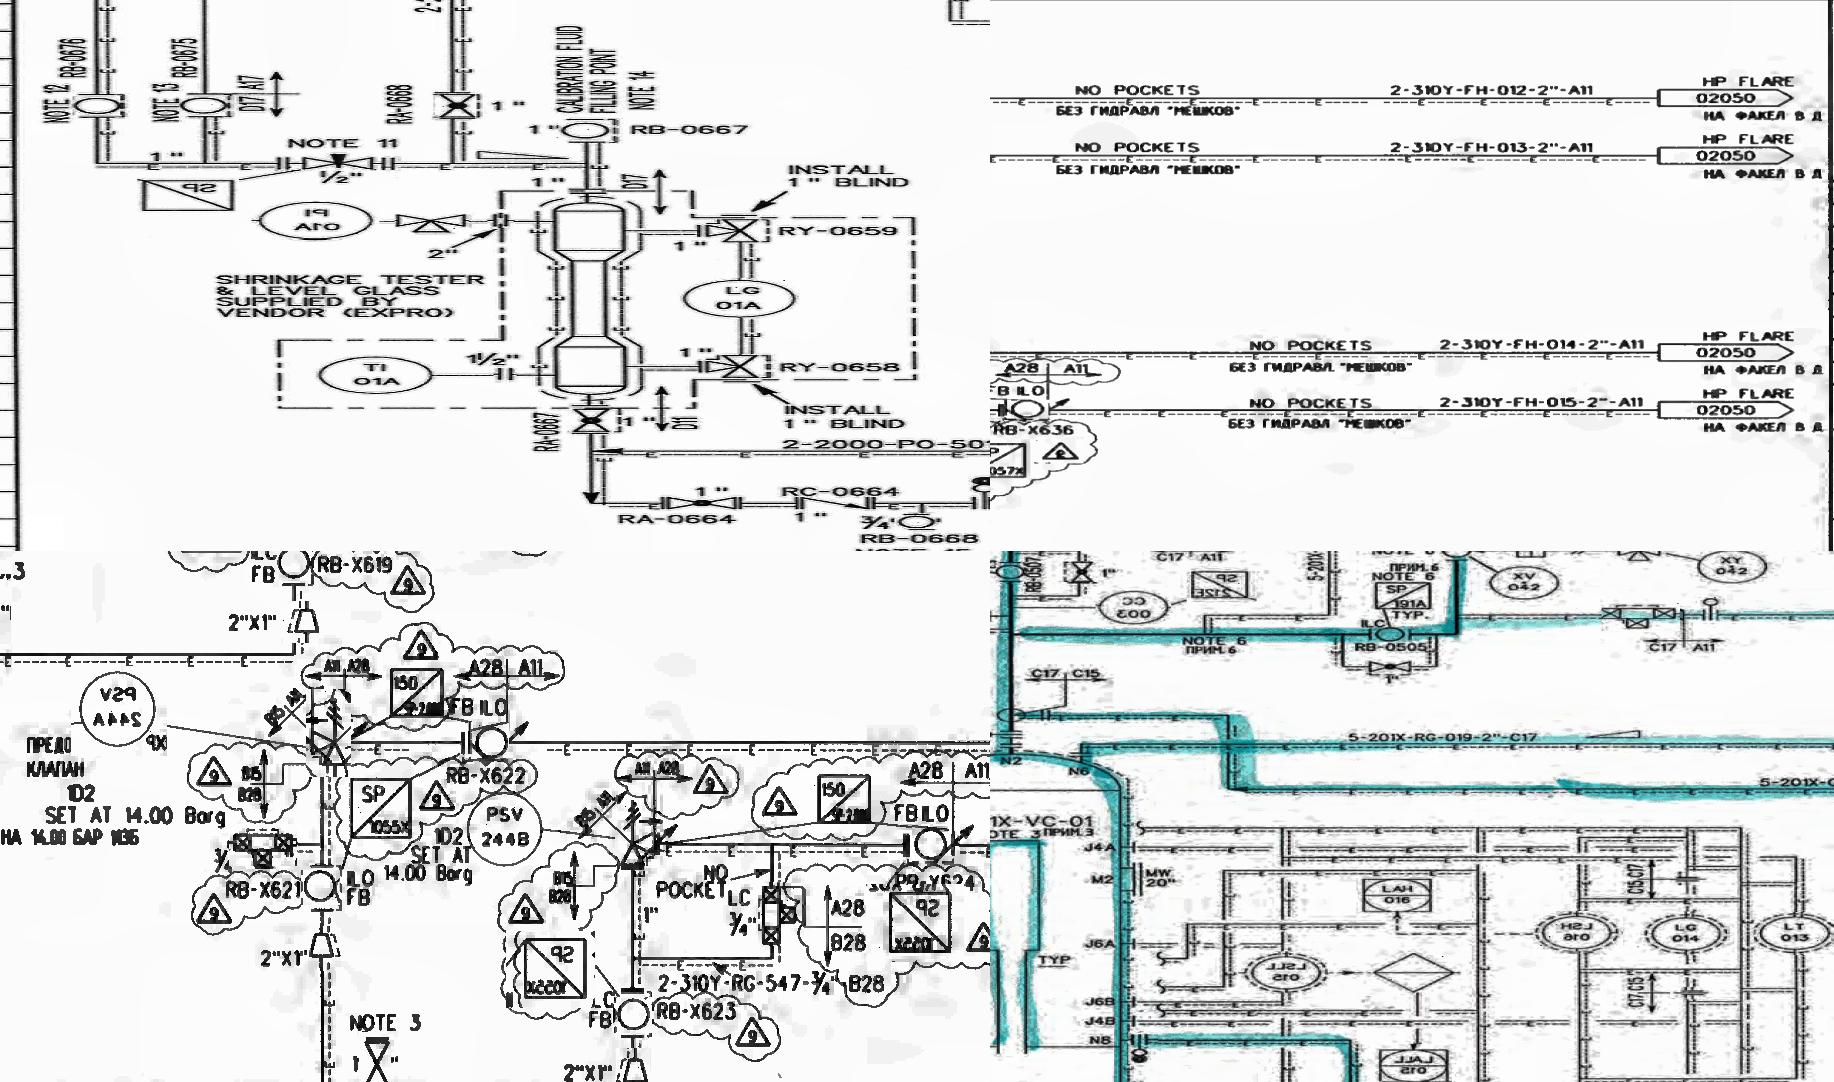2 WAY VALVE: (231, 828, 299, 868)
3 WAY GENERAL VALVE: (704, 354, 771, 379), (704, 219, 766, 243), (395, 214, 471, 233)
ANGLE RELIEF VALVE: (616, 796, 668, 881), (307, 689, 352, 777), (759, 884, 804, 947)
CONCENTRIC REDUCER: (304, 927, 348, 973), (282, 602, 321, 643), (616, 1049, 652, 1082)
END FLANGED: (493, 367, 516, 383), (276, 156, 295, 171), (383, 157, 401, 170)
FIELD INSTRUMENT: (71, 667, 167, 757), (465, 790, 549, 868), (251, 201, 380, 240), (680, 278, 804, 318), (319, 356, 435, 394), (912, 824, 960, 863), (301, 871, 343, 907), (468, 723, 509, 759), (613, 997, 653, 1033), (558, 119, 617, 140), (179, 95, 233, 116), (276, 551, 314, 580), (73, 95, 124, 115), (895, 514, 945, 529)
GATE VALVE: (359, 1030, 398, 1082), (0, 574, 12, 649)
GLOBE VALVE: (568, 408, 614, 433), (434, 94, 477, 119), (662, 496, 741, 509)
NEEDLE VALVE: (301, 152, 376, 170)
ORIFICE PLATE: (488, 213, 516, 228), (568, 188, 609, 195)
REVISION TRIANGLE: (726, 1009, 780, 1060), (386, 563, 438, 604), (188, 754, 240, 790), (194, 891, 234, 936), (506, 886, 546, 930), (760, 782, 801, 818), (693, 761, 729, 801), (404, 626, 439, 663), (417, 779, 456, 810), (967, 915, 990, 960)
SPECIAL PIPING ITEM: (867, 884, 966, 962), (804, 759, 893, 837), (507, 931, 598, 1009), (344, 769, 419, 854), (376, 654, 455, 726), (139, 178, 242, 213)
